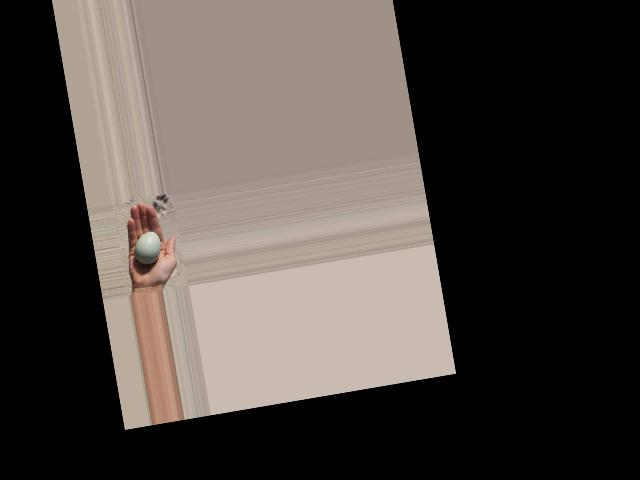egg: (131, 229, 163, 265)
